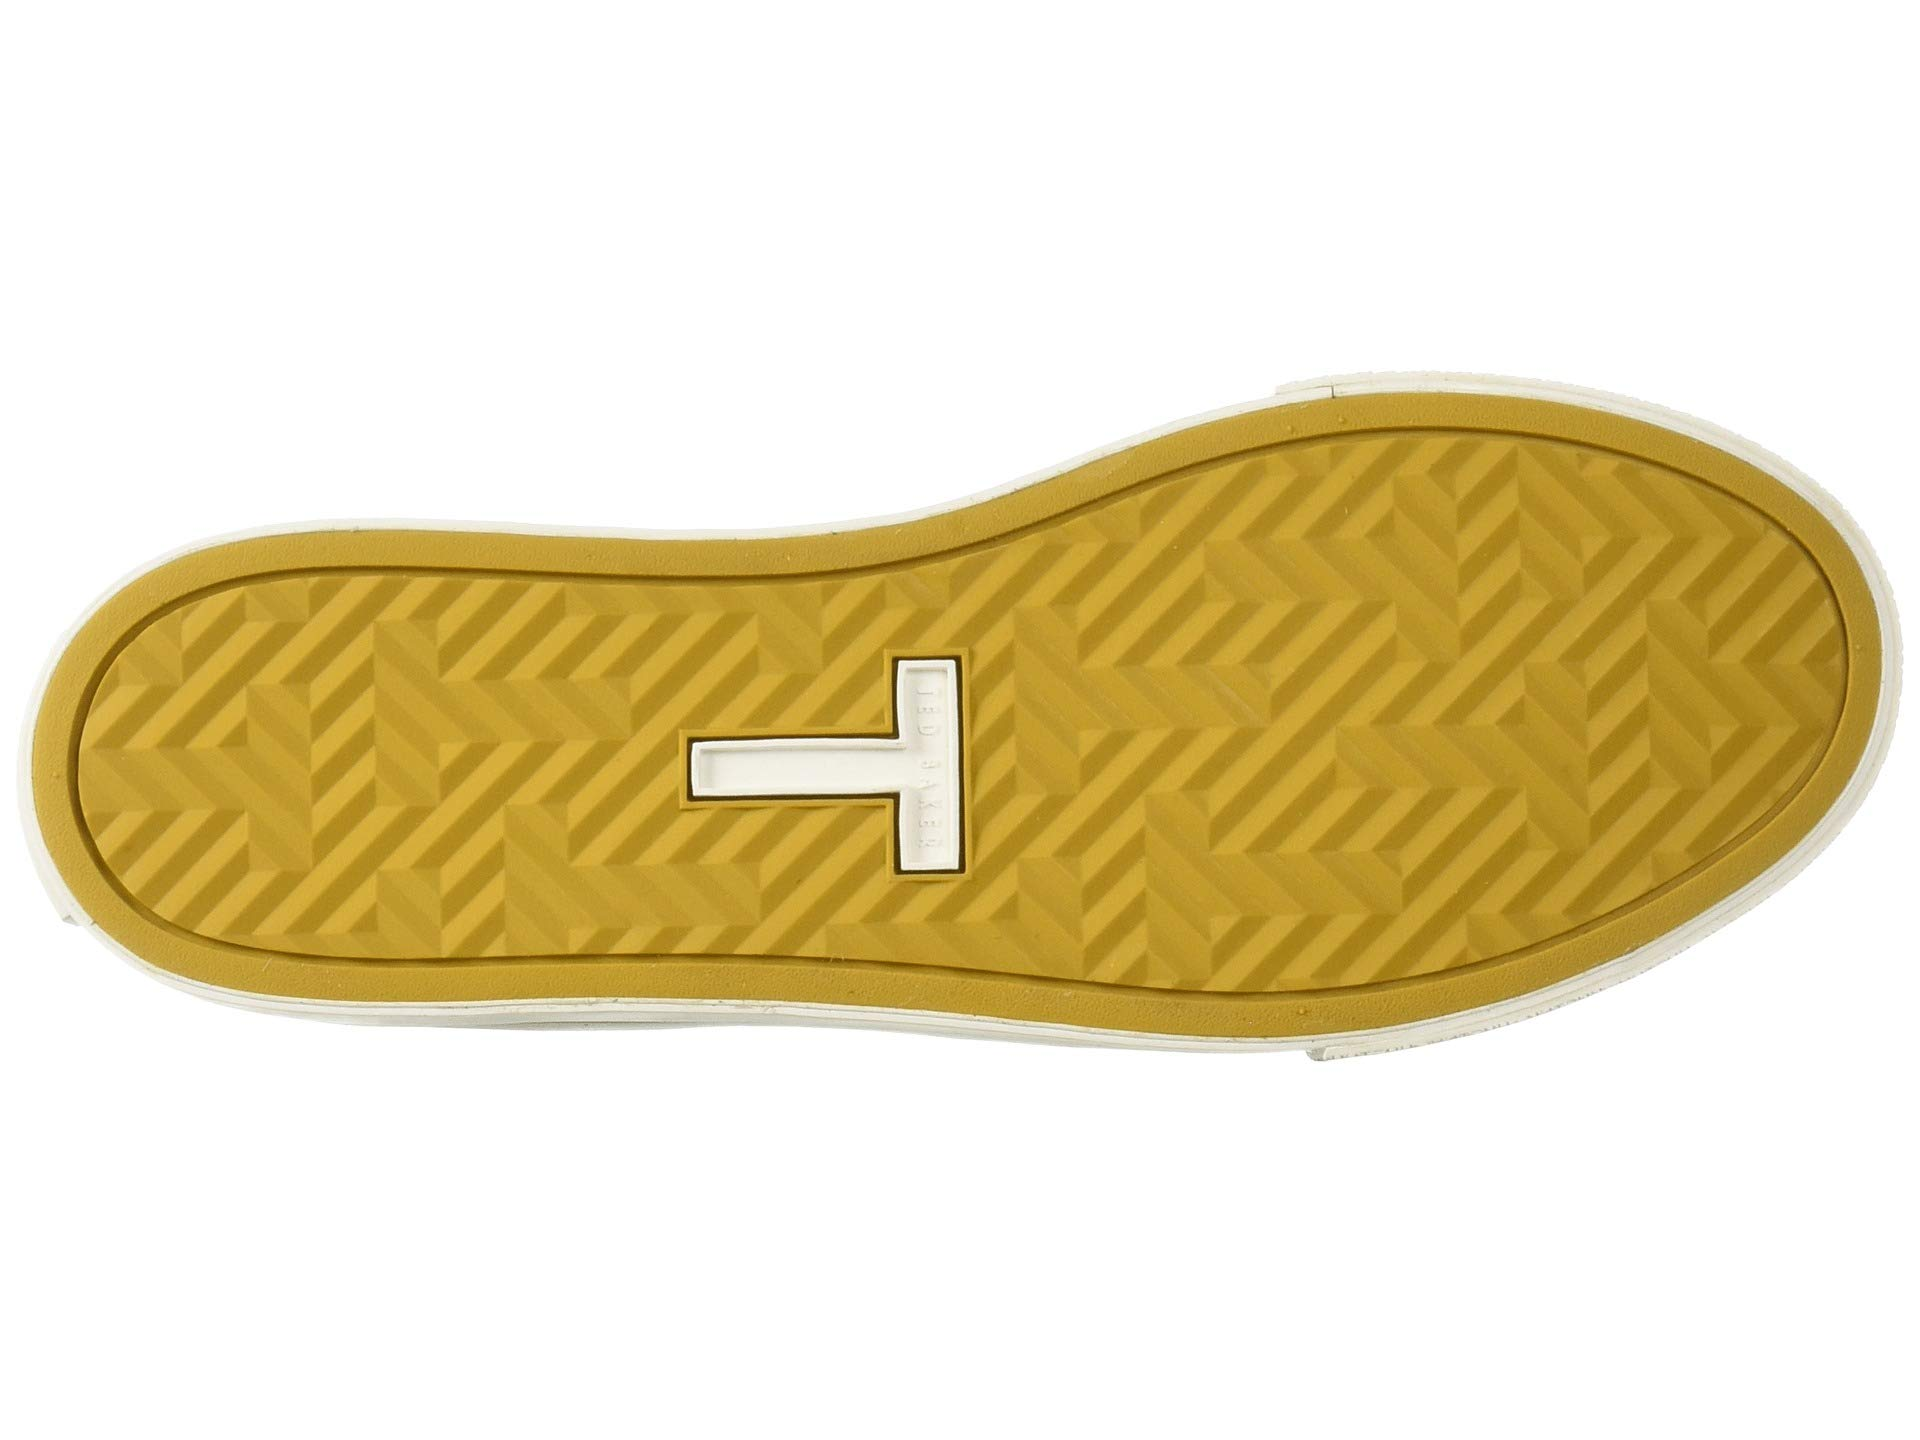chevron: (1191, 516, 1612, 914)
quad: (1191, 516, 1612, 914), (664, 635, 980, 927)
text: (664, 635, 980, 927)
